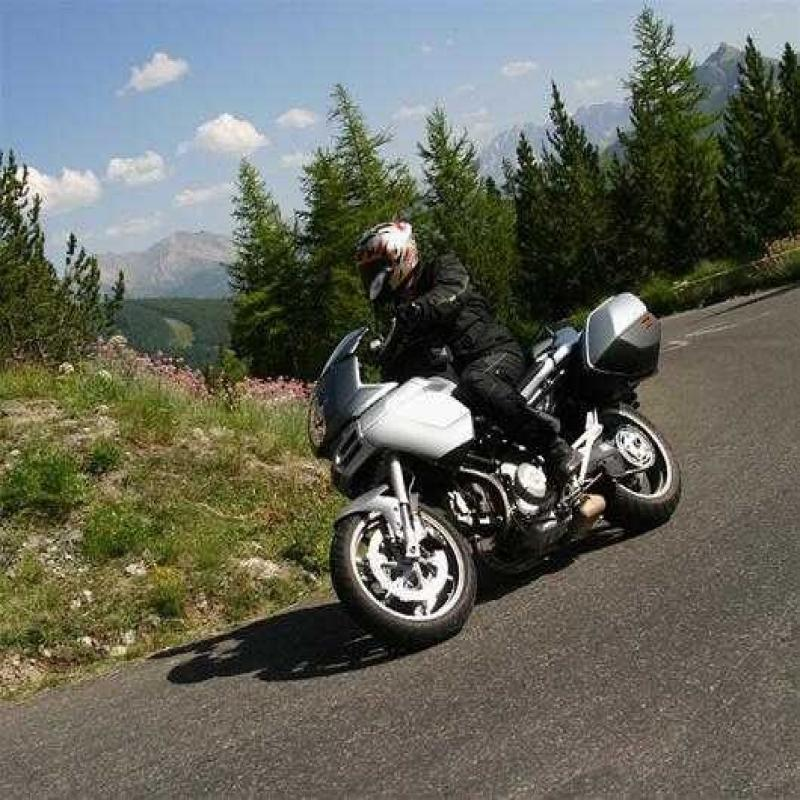bike: (287, 296, 697, 646)
